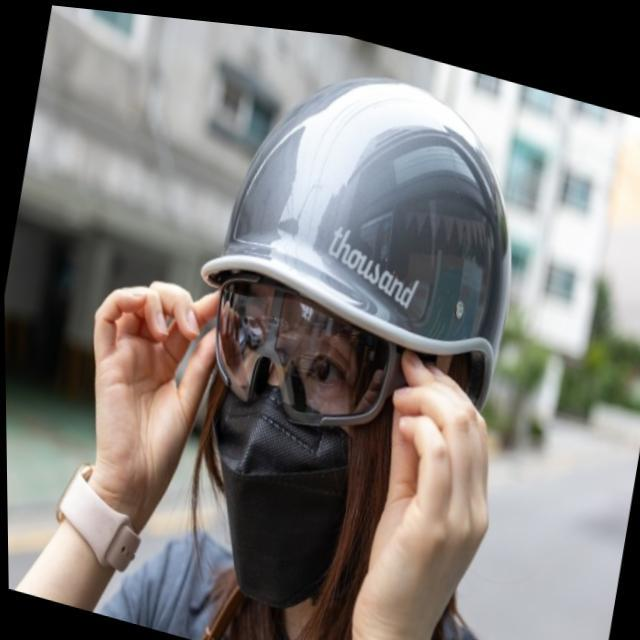Helmet: (194, 62, 514, 622)
